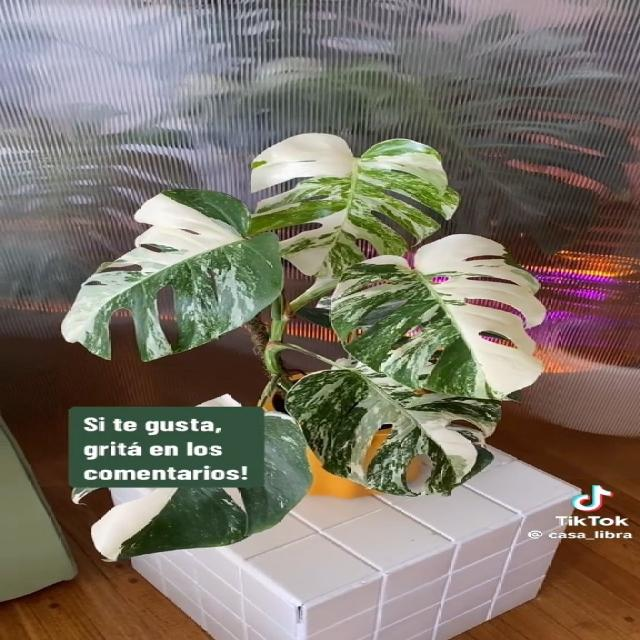lisc_variegata: (59, 187, 287, 364), (67, 409, 317, 568), (330, 234, 548, 399), (246, 132, 464, 279), (308, 361, 508, 496), (288, 290, 363, 331)
roslina_variegata: (60, 133, 548, 565)
